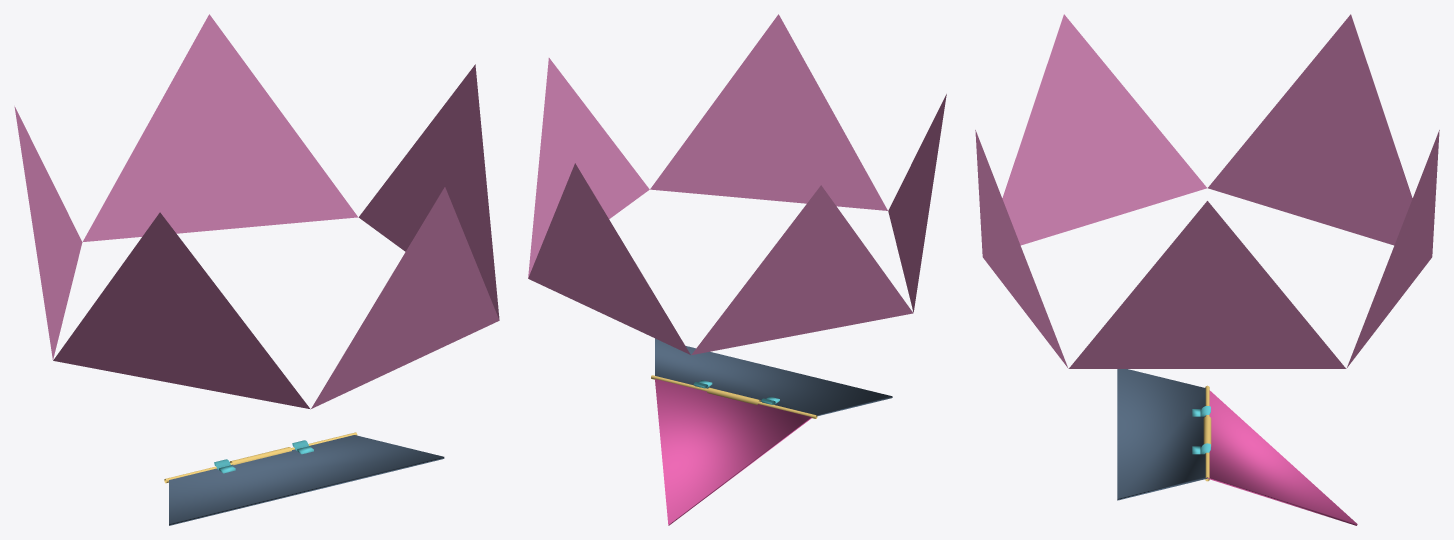
Rendered from NEXAH_D1_D2_CLAMP_CANDIDATE_2026-10-25.glb.
3 renders of one model, left to right at view 1: azimuth 30°, elevation 25°; view 2: azimuth 150°, elevation 25°; view 3: azimuth 270°, elevation 25°, orthographic. The views are drawn at different scales.
Visible parts, largest first — view 1: fixed crown face 5, fixed crown face 2, fixed crown face 3, fixed crown face 4, fixed lower trapezoid, fixed crown face 1; view 2: fixed crown face 3, fixed crown face 1, D1-D2 moving finite panel, fixed crown face 5, fixed crown face 4, fixed lower trapezoid, fixed crown face 2; view 3: fixed crown face 1, fixed crown face 2, fixed crown face 4, fixed lower trapezoid, D1-D2 moving finite panel, fixed crown face 3, fixed crown face 5.
Part boxes in pixels (x1,y1,x2,y2): fixed crown face 5: [82, 14, 357, 242]; fixed crown face 2: [53, 212, 310, 409]; fixed crown face 3: [311, 187, 499, 408]; fixed crown face 4: [358, 64, 499, 319]; fixed lower trapezoid: [169, 435, 444, 525]; fixed crown face 1: [14, 106, 82, 359]; fixed crown face 3: [650, 14, 887, 210]; fixed crown face 1: [691, 185, 913, 354]; D1-D2 moving finite panel: [655, 379, 811, 525]; fixed crown face 5: [528, 163, 690, 354]; fixed crown face 4: [528, 58, 649, 278]; fixed lower trapezoid: [655, 338, 892, 416]; fixed crown face 2: [888, 94, 946, 312]; fixed crown face 1: [1208, 14, 1412, 245]; fixed crown face 2: [1002, 14, 1206, 245]; fixed crown face 4: [1069, 201, 1345, 368]; fixed lower trapezoid: [1117, 369, 1207, 500]; D1-D2 moving finite panel: [1207, 390, 1357, 525]; fixed crown face 3: [975, 130, 1068, 368]; fixed crown face 5: [1346, 130, 1439, 368].
Size of the model in its own units: 0.1729 by 0.1702 by 0.167.
